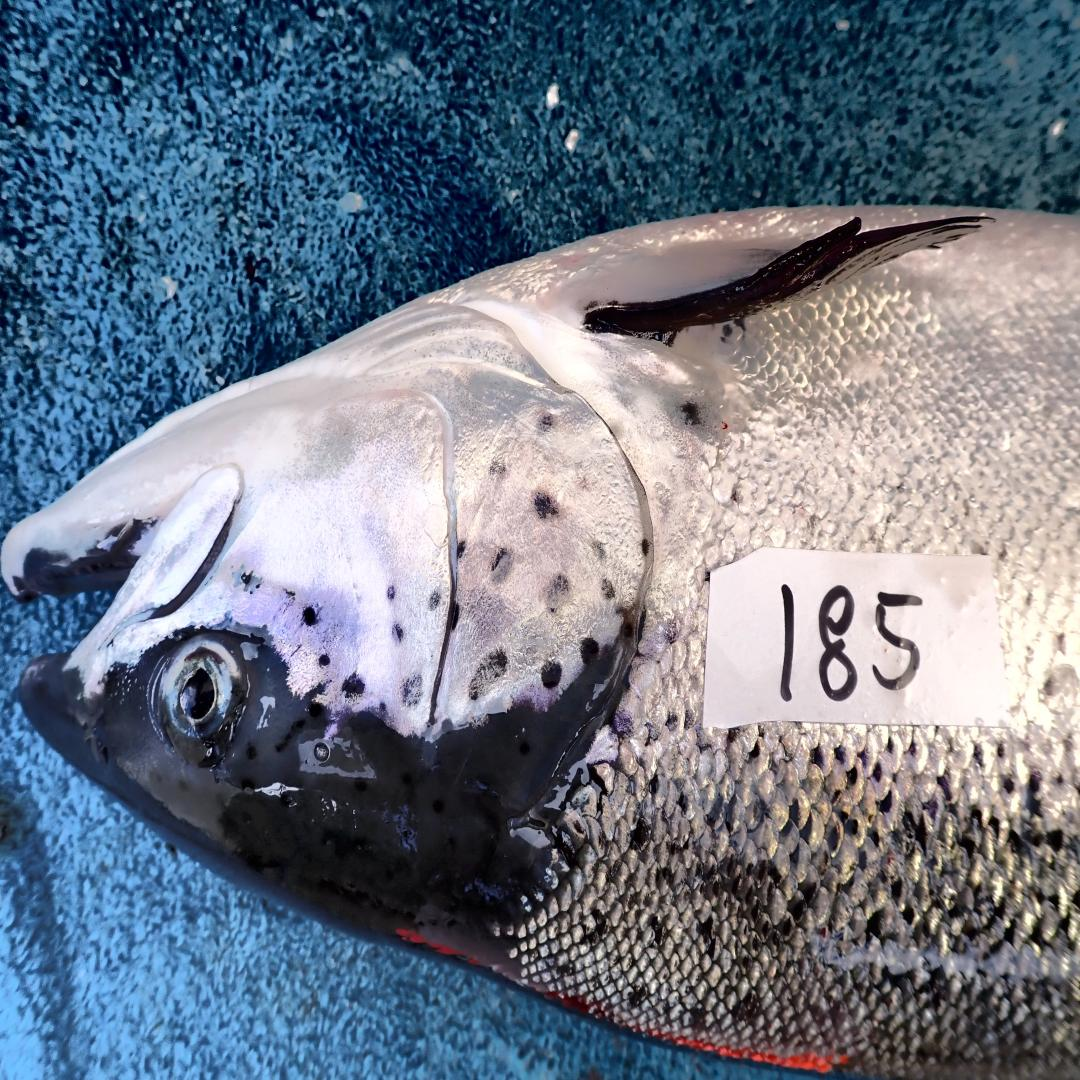spot: (468, 647, 508, 700), (542, 577, 571, 615), (491, 548, 513, 582), (534, 492, 559, 520), (401, 675, 422, 706), (342, 672, 365, 698), (580, 638, 599, 664), (542, 664, 561, 689), (489, 461, 507, 481), (537, 414, 553, 436), (591, 542, 606, 564), (601, 579, 615, 601), (456, 540, 469, 561), (302, 608, 316, 627), (451, 600, 460, 629), (428, 591, 441, 610), (392, 623, 403, 644), (641, 538, 652, 557), (387, 584, 397, 600), (319, 652, 329, 667), (623, 623, 633, 637)
